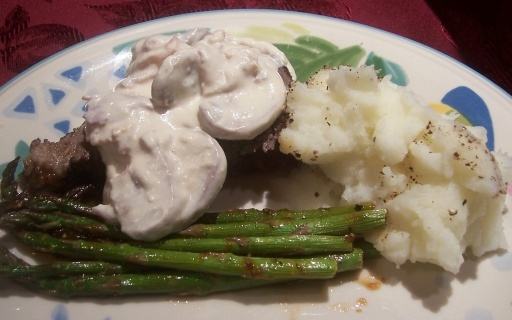background: (0, 13, 407, 149)
